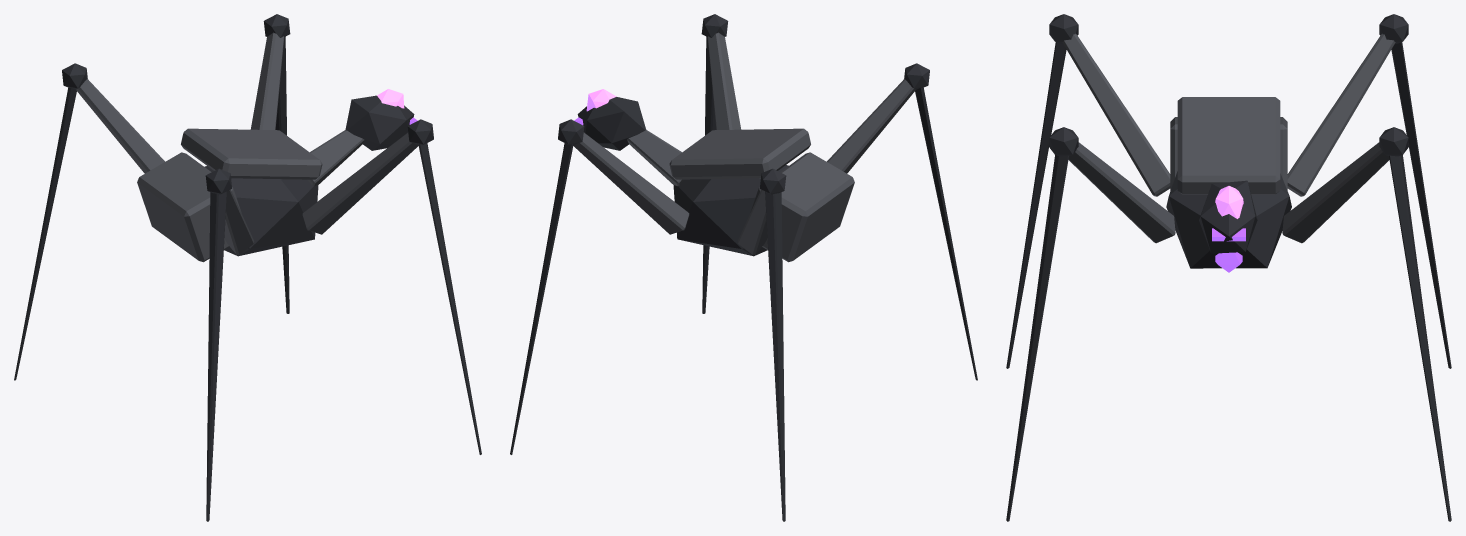
The model's file is TC_CHAR_GalaxabrainScout_V1.gltf.
The picture shows the model from 3 angles, left to right: view 1: azimuth 30°, elevation 25°; view 2: azimuth 150°, elevation 25°; view 3: azimuth 270°, elevation 25°; orthographic projection. The views are drawn at different scales.
Visible parts, largest first — view 1: TC_Scout_PlateBack, TC_Scout_PlateTop, TC_Scout_Torso, TC_Scout_LegLower_2, TC_Scout_LegUpper_3, TC_Scout_Head, TC_Scout_LegUpper_1, TC_Scout_LegUpper_0, TC_Scout_LegLower_3, TC_Scout_LegLower_1, TC_Scout_Neck, TC_Scout_LegUpper_2 (+3 smaller); view 2: TC_Scout_PlateBack, TC_Scout_PlateTop, TC_Scout_Torso, TC_Scout_LegLower_1, TC_Scout_LegUpper_0, TC_Scout_Head, TC_Scout_LegUpper_2, TC_Scout_LegUpper_3, TC_Scout_LegLower_0, TC_Scout_LegLower_2, TC_Scout_Neck, TC_Scout_LegUpper_1 (+3 smaller); view 3: TC_Scout_PlateTop, TC_Scout_Torso, TC_Scout_LegUpper_1, TC_Scout_LegUpper_2, TC_Scout_LegUpper_0, TC_Scout_LegUpper_3, TC_Scout_LegLower_0, TC_Scout_LegLower_3, TC_Scout_LegLower_2, TC_Scout_LegLower_1, TC_Scout_Head, TC_Scout_PlateBack (+5 smaller).
Part boxes in pixels (bbox=[...]): TC_Scout_PlateBack: bbox=[137, 152, 241, 262]; TC_Scout_PlateTop: bbox=[181, 128, 322, 179]; TC_Scout_Torso: bbox=[204, 166, 318, 256]; TC_Scout_LegLower_2: bbox=[206, 191, 226, 521]; TC_Scout_LegUpper_3: bbox=[302, 132, 418, 234]; TC_Scout_Head: bbox=[345, 95, 414, 150]; TC_Scout_LegUpper_1: bbox=[76, 78, 165, 173]; TC_Scout_LegUpper_0: bbox=[250, 32, 284, 129]; TC_Scout_LegLower_3: bbox=[418, 143, 481, 454]; TC_Scout_LegLower_1: bbox=[14, 87, 76, 380]; TC_Scout_Neck: bbox=[307, 130, 364, 186]; TC_Scout_LegUpper_2: bbox=[224, 189, 254, 254]; TC_Scout_PlateBack: bbox=[750, 152, 854, 262]; TC_Scout_PlateTop: bbox=[669, 128, 810, 179]; TC_Scout_Torso: bbox=[673, 165, 788, 256]; TC_Scout_LegLower_1: bbox=[765, 191, 785, 521]; TC_Scout_LegUpper_0: bbox=[573, 132, 689, 234]; TC_Scout_Head: bbox=[577, 97, 646, 150]; TC_Scout_LegUpper_2: bbox=[826, 78, 915, 173]; TC_Scout_LegUpper_3: bbox=[707, 32, 741, 129]; TC_Scout_LegLower_0: bbox=[510, 143, 573, 454]; TC_Scout_LegLower_2: bbox=[915, 87, 977, 380]; TC_Scout_Neck: bbox=[627, 130, 684, 186]; TC_Scout_LegUpper_1: bbox=[737, 189, 767, 254]; TC_Scout_PlateTop: bbox=[1177, 97, 1280, 194]; TC_Scout_Torso: bbox=[1166, 171, 1291, 268]; TC_Scout_LegUpper_1: bbox=[1287, 33, 1395, 196]; TC_Scout_LegUpper_2: bbox=[1062, 33, 1170, 196]; TC_Scout_LegUpper_0: bbox=[1282, 142, 1389, 243]; TC_Scout_LegUpper_3: bbox=[1068, 142, 1175, 243]; TC_Scout_LegLower_0: bbox=[1389, 155, 1451, 521]; TC_Scout_LegLower_3: bbox=[1006, 155, 1068, 521]; TC_Scout_LegLower_2: bbox=[1006, 42, 1066, 368]; TC_Scout_LegLower_1: bbox=[1391, 42, 1451, 368]; TC_Scout_Head: bbox=[1199, 180, 1257, 253]; TC_Scout_PlateBack: bbox=[1170, 117, 1287, 190].
Size of the model in its own units: 1.65 by 1.69 by 1.82.
